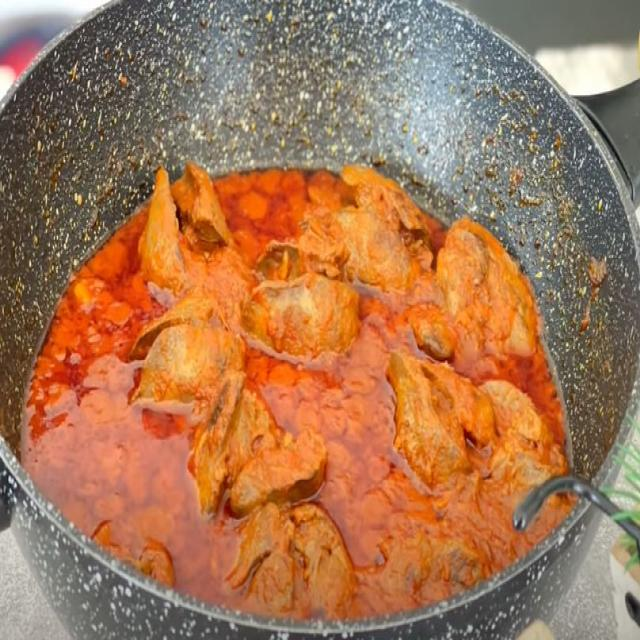kamouniya: (31, 18, 614, 629)
